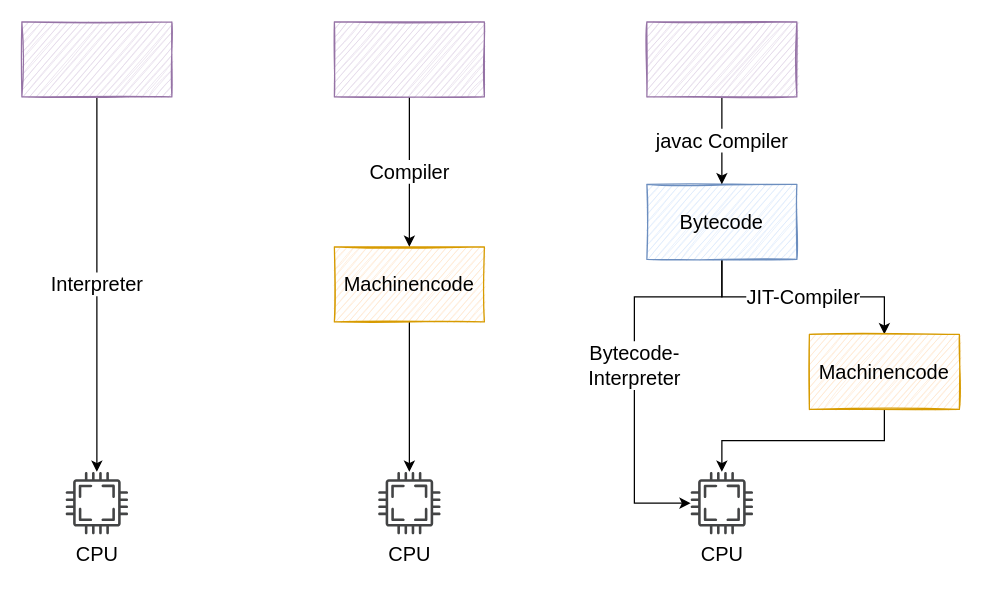
Image size: 981x589. Some labels were removed from this diagram. Here are the shapes that lost their labels. From the top down, the centre of each, then its label:
the point at 96,59: Python / PHP (klassisch)
the point at 408,59: C Quellcode
the point at 721,59: Java Sourcecode
